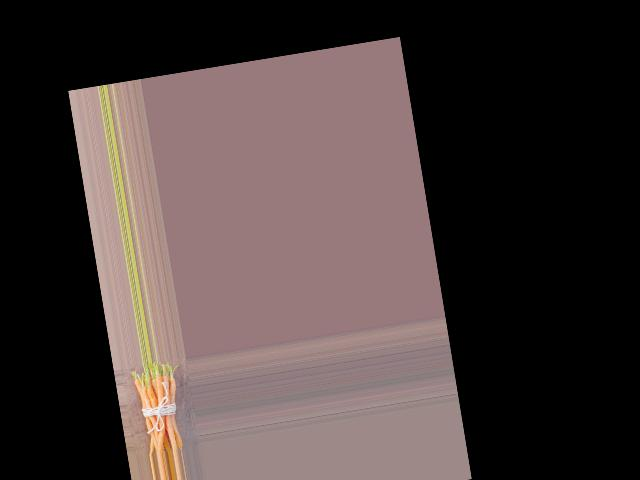carrot: (165, 369, 188, 449)
